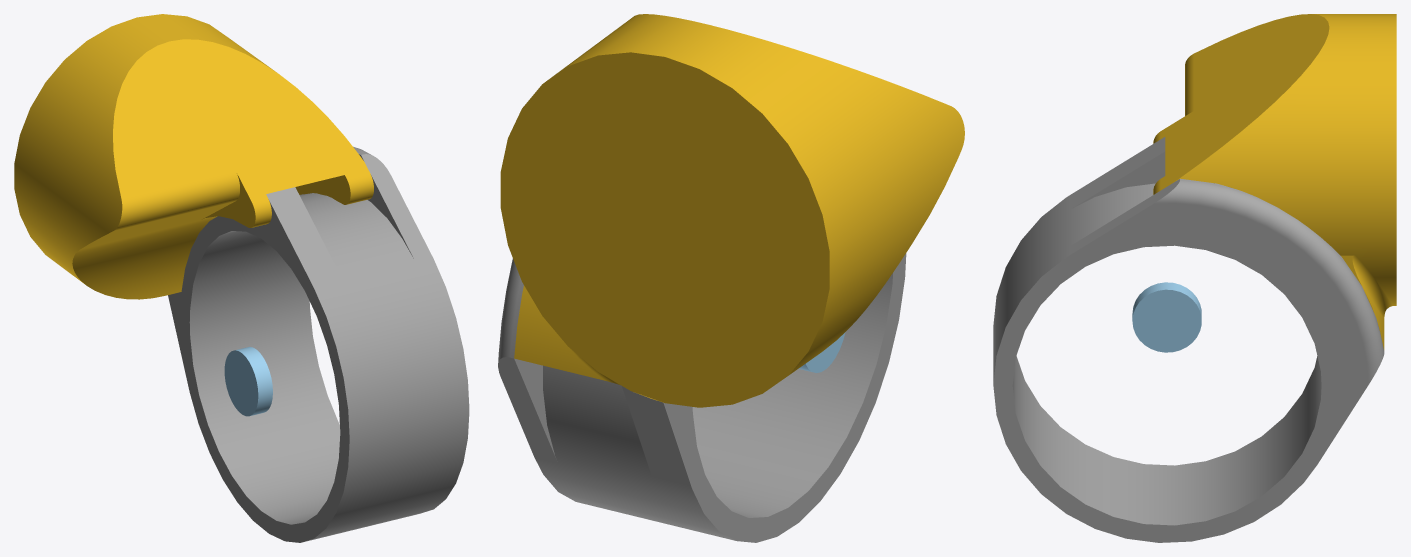
Rendered from L_Shoulder_Roll_Assy.obj.
3 renders of one model, left to right at view 1: azimuth 30°, elevation 25°; view 2: azimuth 150°, elevation 25°; view 3: azimuth 270°, elevation 25°, orthographic. The views are drawn at different scales.
Visible parts, largest first — view 1: mesh25, mesh18, mesh12, mesh1, mesh26, mesh8, mesh6, mesh30, mesh22, mesh31, mesh5, mesh32 (+3 smaller); view 2: mesh0, mesh1, mesh18, mesh25, mesh26, mesh28, mesh4, mesh21, mesh20, mesh24, mesh31; view 3: mesh1, mesh19, mesh18, mesh12, mesh25, mesh20, mesh33, mesh30, mesh27, mesh22, mesh3, mesh32 (+1 smaller).
Part boxes in pixels (<box>): mesh25: <box>299,193,469,542</box>; mesh18: <box>189,231,340,524</box>; mesh12: <box>113,39,370,202</box>; mesh1: <box>14,14,276,284</box>; mesh26: <box>168,201,349,542</box>; mesh8: <box>72,216,217,299</box>; mesh6: <box>114,171,239,230</box>; mesh30: <box>266,187,341,285</box>; mesh22: <box>361,154,431,260</box>; mesh31: <box>224,350,258,416</box>; mesh5: <box>80,201,234,249</box>; mesh32: <box>236,346,272,415</box>; mesh0: <box>500,52,829,407</box>; mesh1: <box>546,14,964,400</box>; mesh18: <box>692,273,892,517</box>; mesh25: <box>534,365,735,540</box>; mesh26: <box>663,253,906,542</box>; mesh28: <box>622,386,690,485</box>; mesh4: <box>514,285,605,380</box>; mesh21: <box>498,357,557,462</box>; mesh20: <box>498,258,520,363</box>; mesh24: <box>514,310,555,457</box>; mesh31: <box>806,332,845,372</box>; mesh1: <box>1176,14,1396,305</box>; mesh19: <box>993,203,1368,542</box>; mesh18: <box>1012,356,1321,525</box>; mesh12: <box>1160,14,1329,189</box>; mesh25: <box>993,183,1155,384</box>; mesh20: <box>1155,180,1384,384</box>; mesh33: <box>1132,289,1201,352</box>; mesh30: <box>1069,137,1165,209</box>; mesh27: <box>1072,151,1165,208</box>; mesh22: <box>1069,179,1179,254</box>; mesh3: <box>1352,255,1393,317</box>; mesh32: <box>1132,282,1201,320</box>.
Size of the model in its own units: 0.0884 by 0.1419 by 0.116.
